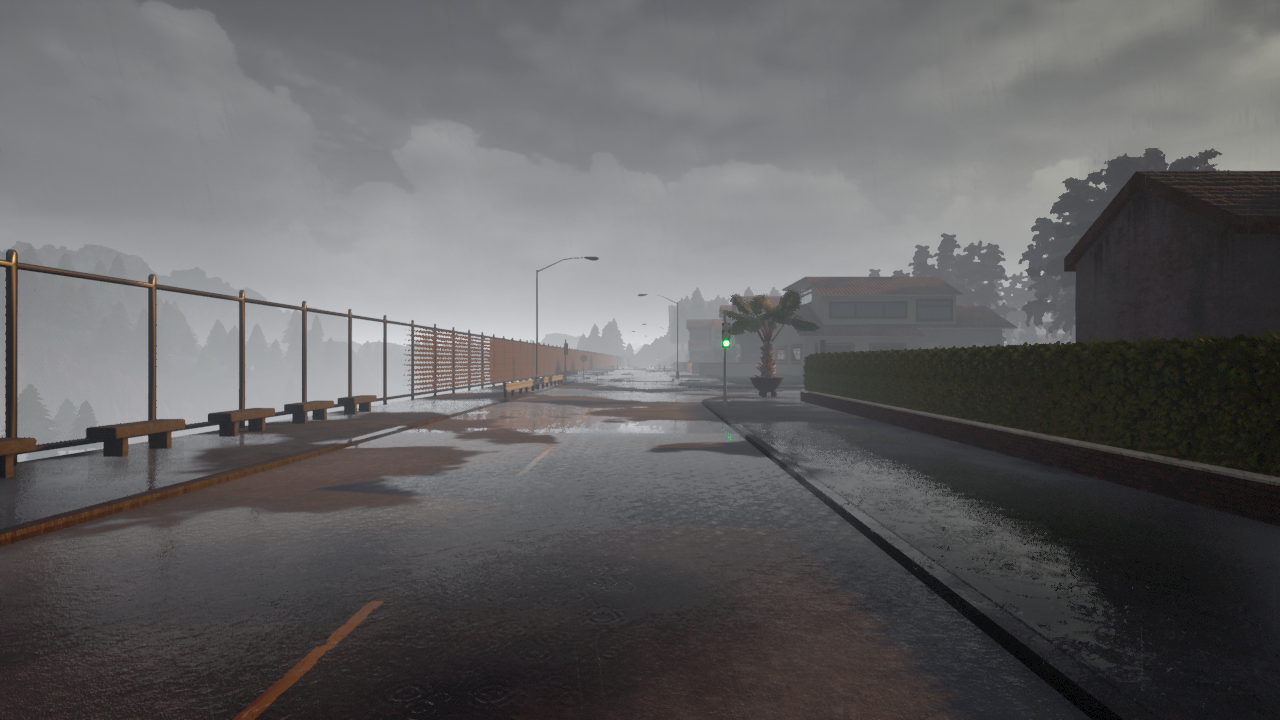green: (720, 322, 732, 349)
